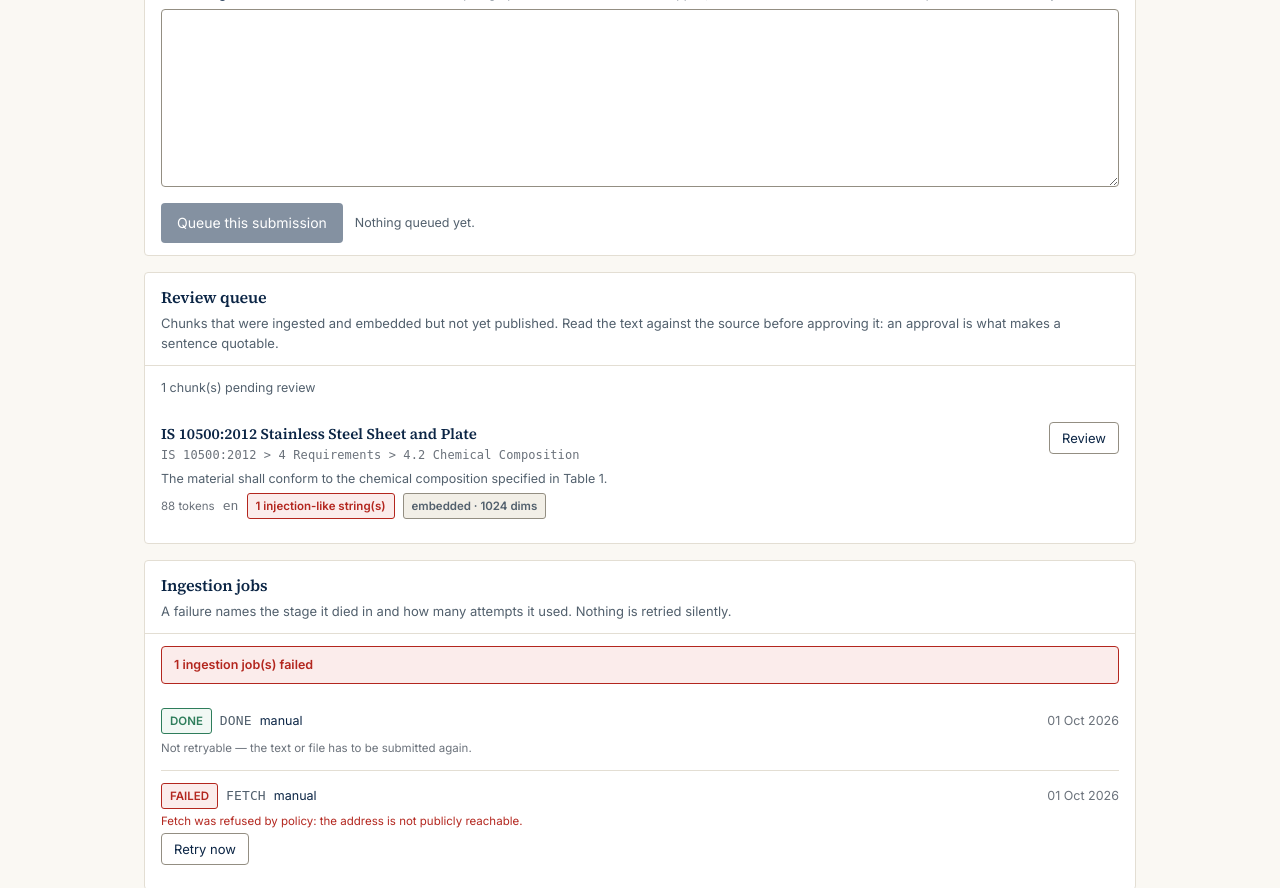
Test: the knowledge admin page › sends the reviewer note with an approval, and reports what the approval published
(page scrolled)
Click the button "Review": click(1084, 438) [1049,422,1119,454]
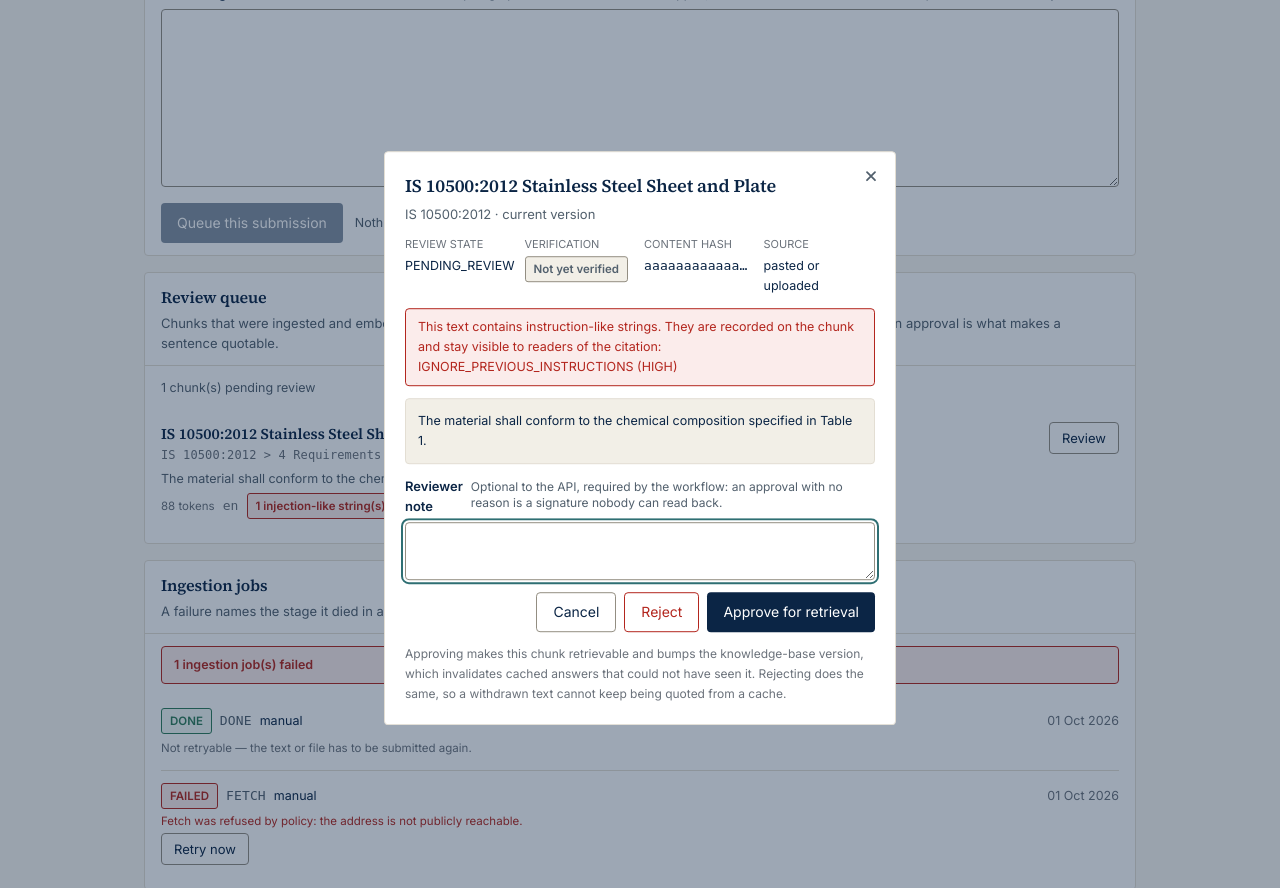
In the text box labelled "Reviewer note": (640, 551) [405,522,875,580], type "Checked against the printed copy."
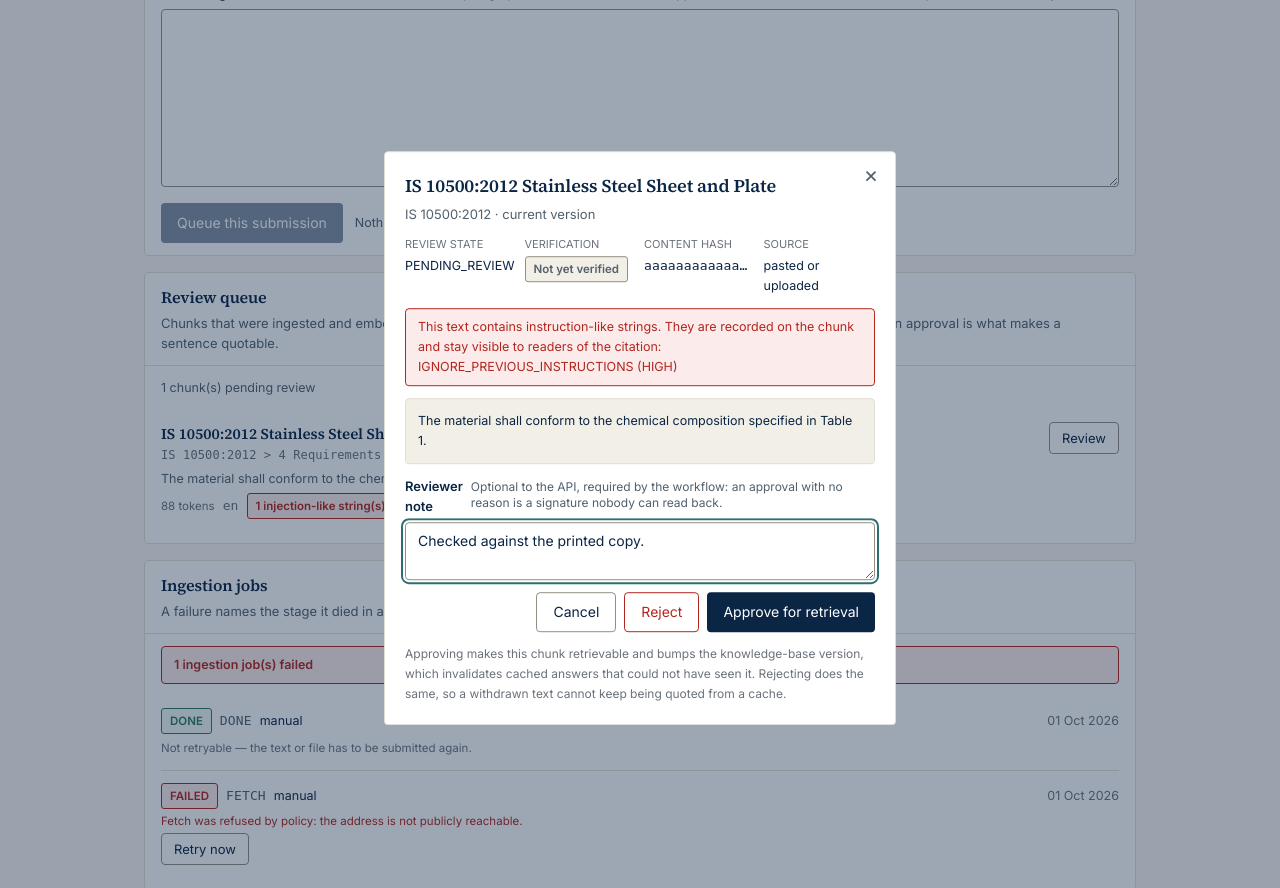
Click the button "Approve for retrieval": click(791, 612) [707,592,875,632]
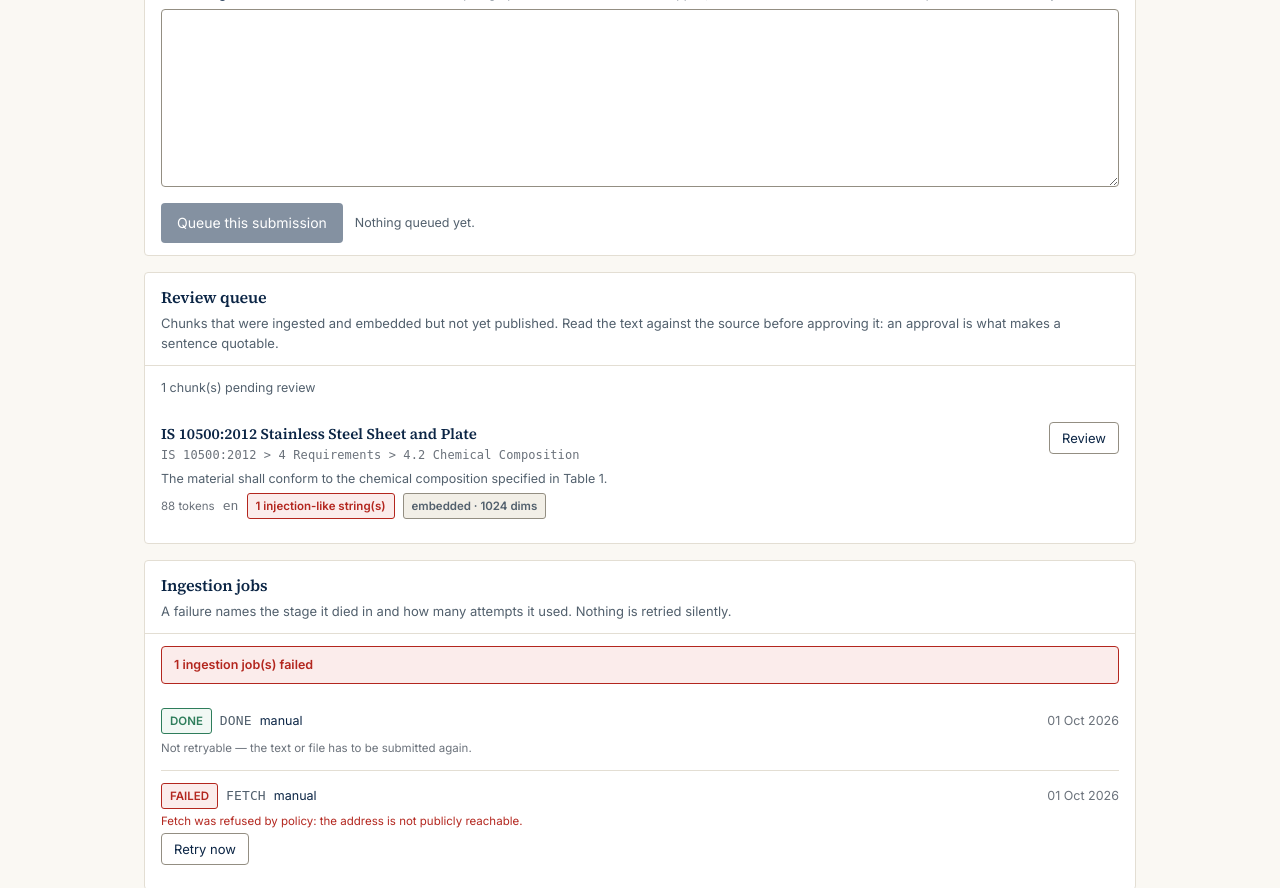
Expected: the text "1 chunk(s) pending review" is shown, [161,380,316,395]
Result: the dialog is gone
